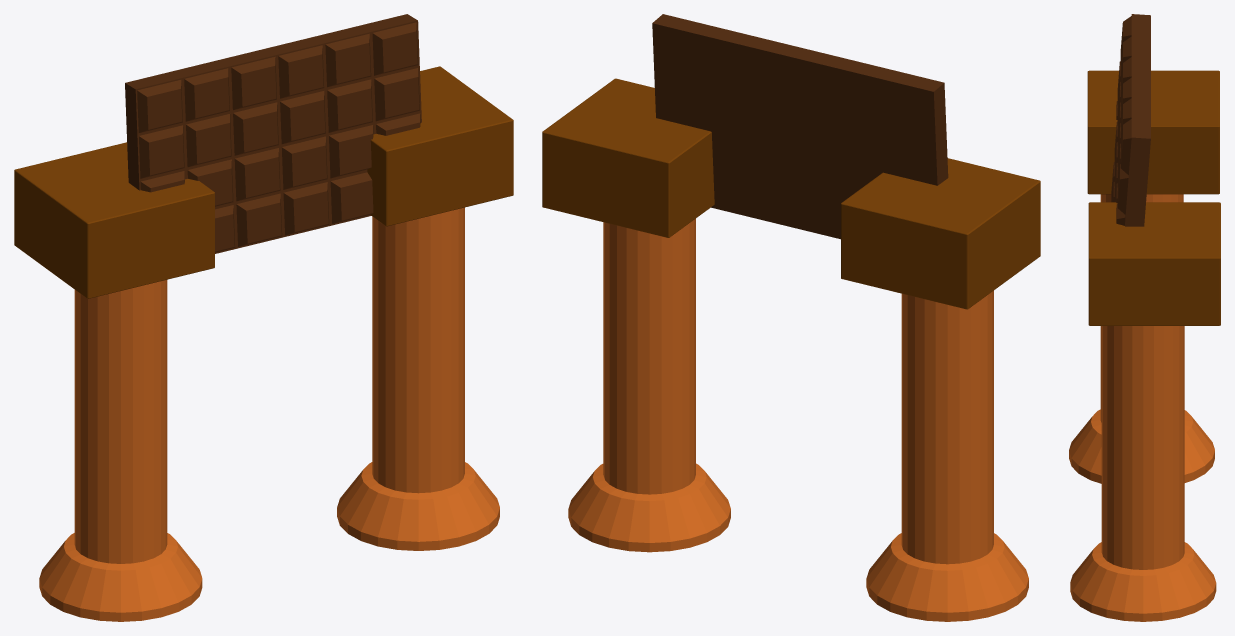
Rendered from Falta.fbx.
3 views of the same model, side by side, from view 1: azimuth 30°, elevation 25°; view 2: azimuth 150°, elevation 25°; view 3: azimuth 270°, elevation 25° (orthographic). The views are drawn at different scales.
Parts seen in each view (by area): view 1: Cube; view 2: Cube; view 3: Cube.
Part boxes in pixels (box(x1,y1,x2,y2)): Cube: box(14, 14, 513, 621); Cube: box(542, 14, 1040, 621); Cube: box(1069, 14, 1220, 621).
Bounding box in the file's own units: 687 × 751 × 229.
